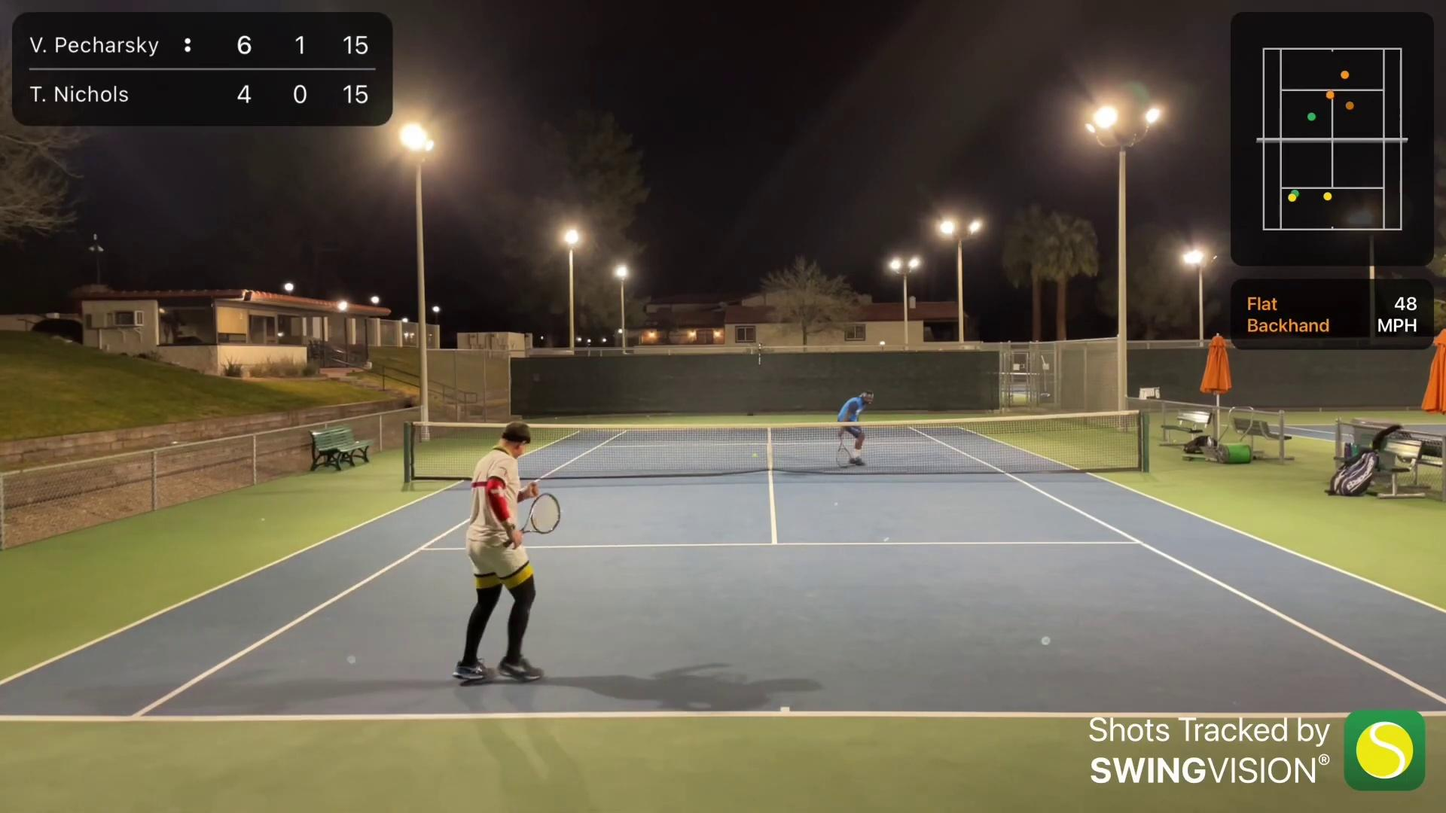ball: (748, 449, 760, 464)
